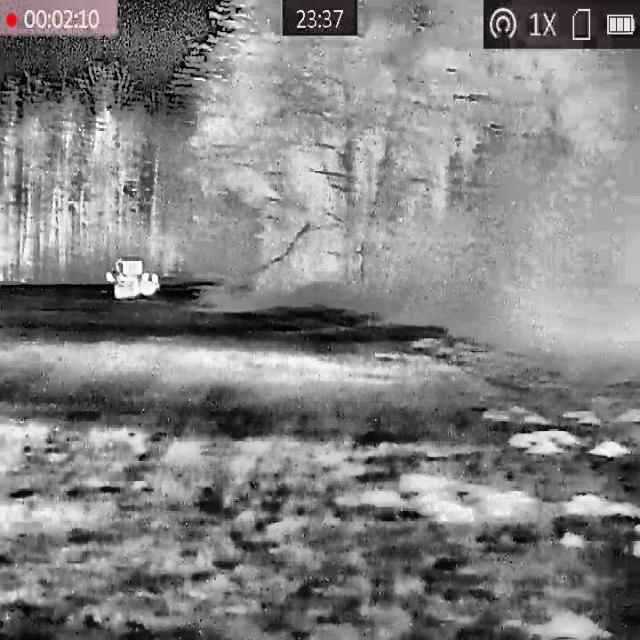drone: (105, 256, 160, 300)
